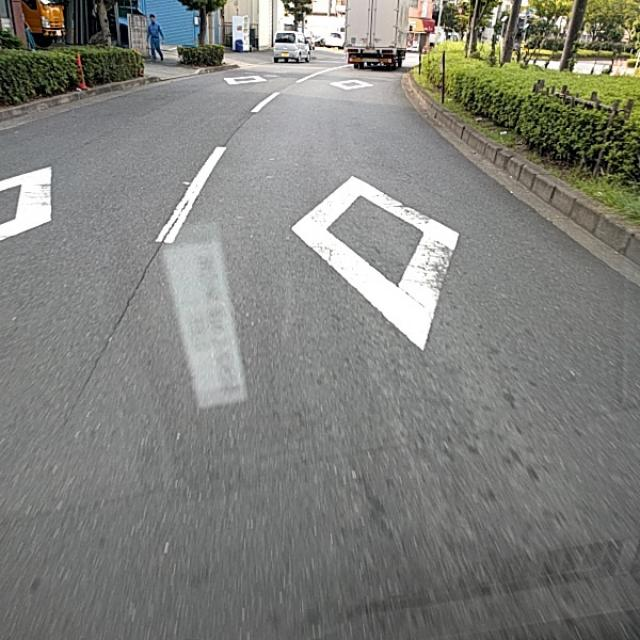pothole: (126, 215, 174, 320)
